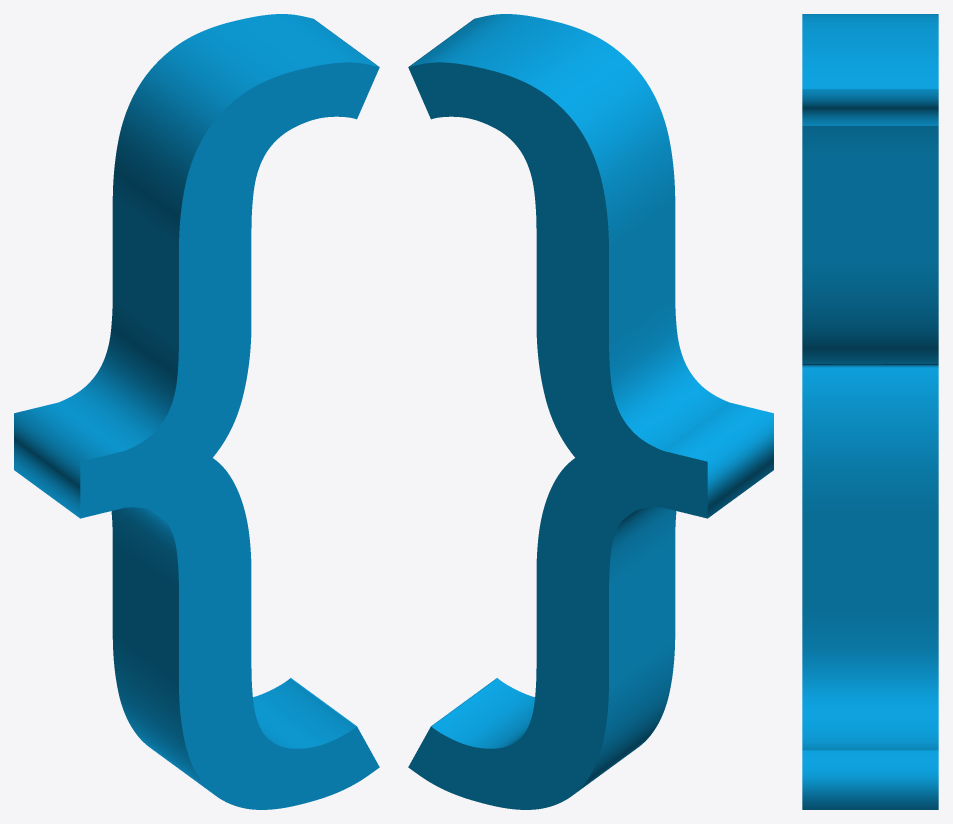
The model's file is curly.glb.
The picture shows the model from 3 angles, left to right: view 1: azimuth 30°, elevation 25°; view 2: azimuth 150°, elevation 25°; view 3: azimuth 270°, elevation 25°; orthographic projection. The views are drawn at different scales.
Visible parts, largest first — view 1: Text; view 2: Text; view 3: Text.
Part boxes in pixels (x1,y1,x2,y2): Text: (14, 14, 379, 809); Text: (408, 14, 773, 809); Text: (802, 14, 938, 809).
Bounding box in the file's own units: 0.3136 × 0.7354 × 0.12.
